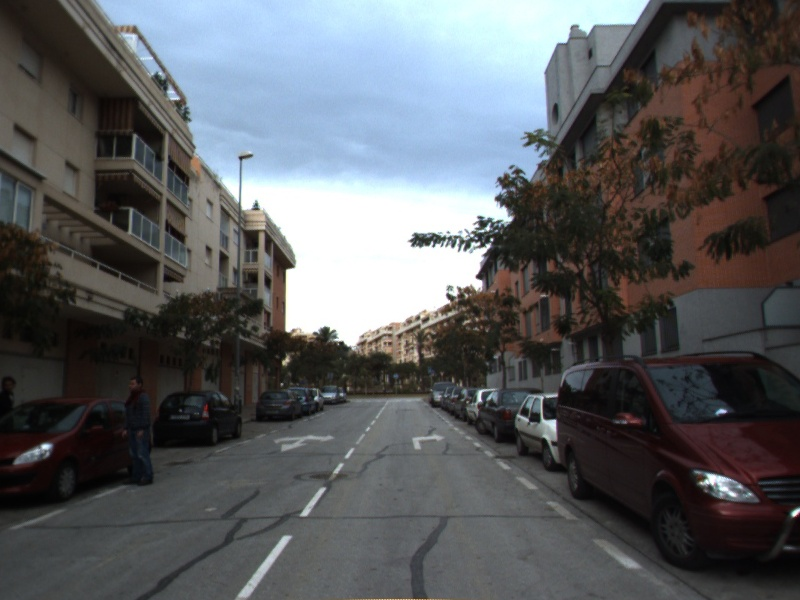RIGHT: (410, 431, 447, 451)
